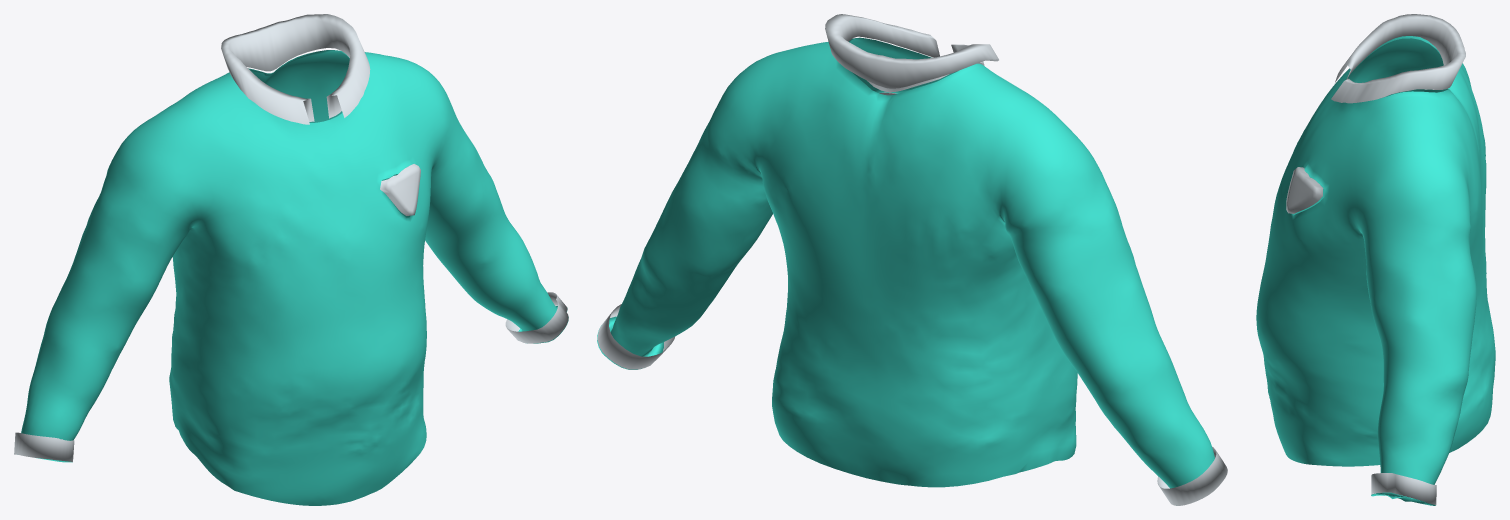
The model's file is Male-XXX-Large-shirtWithAbbi.glb.
3 renders of one model, left to right at view 1: azimuth 30°, elevation 25°; view 2: azimuth 150°, elevation 25°; view 3: azimuth 270°, elevation 25°, orthographic. The views are drawn at different scales.
Visible parts, largest first — view 1: Group1.034; view 2: Group1.034; view 3: Group1.034.
Part boxes in pixels (bbox=[...]): Group1.034: bbox=[14, 14, 568, 505]; Group1.034: bbox=[597, 14, 1227, 505]; Group1.034: bbox=[1256, 14, 1495, 505].
Size of the model in its own units: 1.91 by 1.36 by 0.7323.
